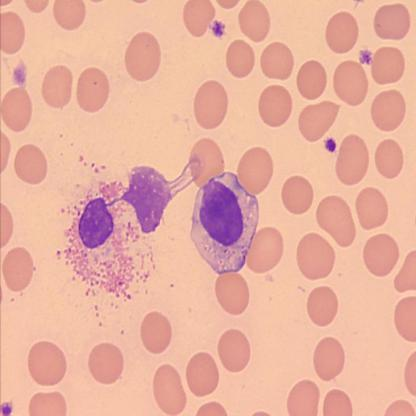Atypical lymphocyte: (58, 140, 186, 296), (193, 171, 264, 272)
